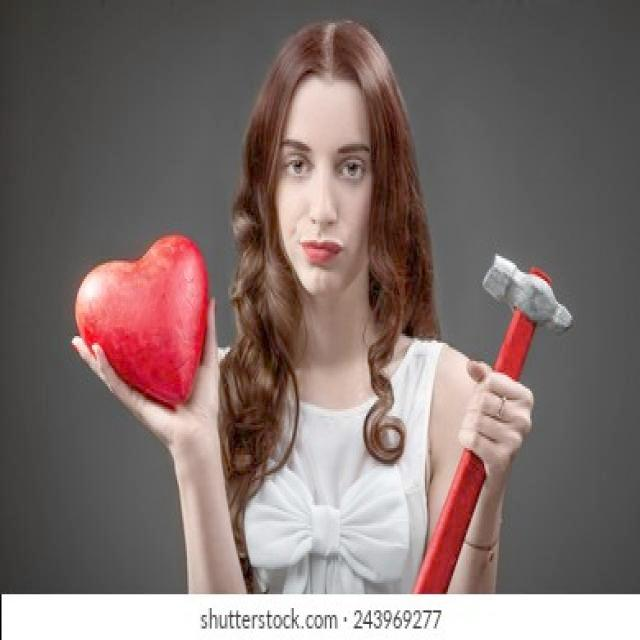hammer: (398, 248, 577, 598)
